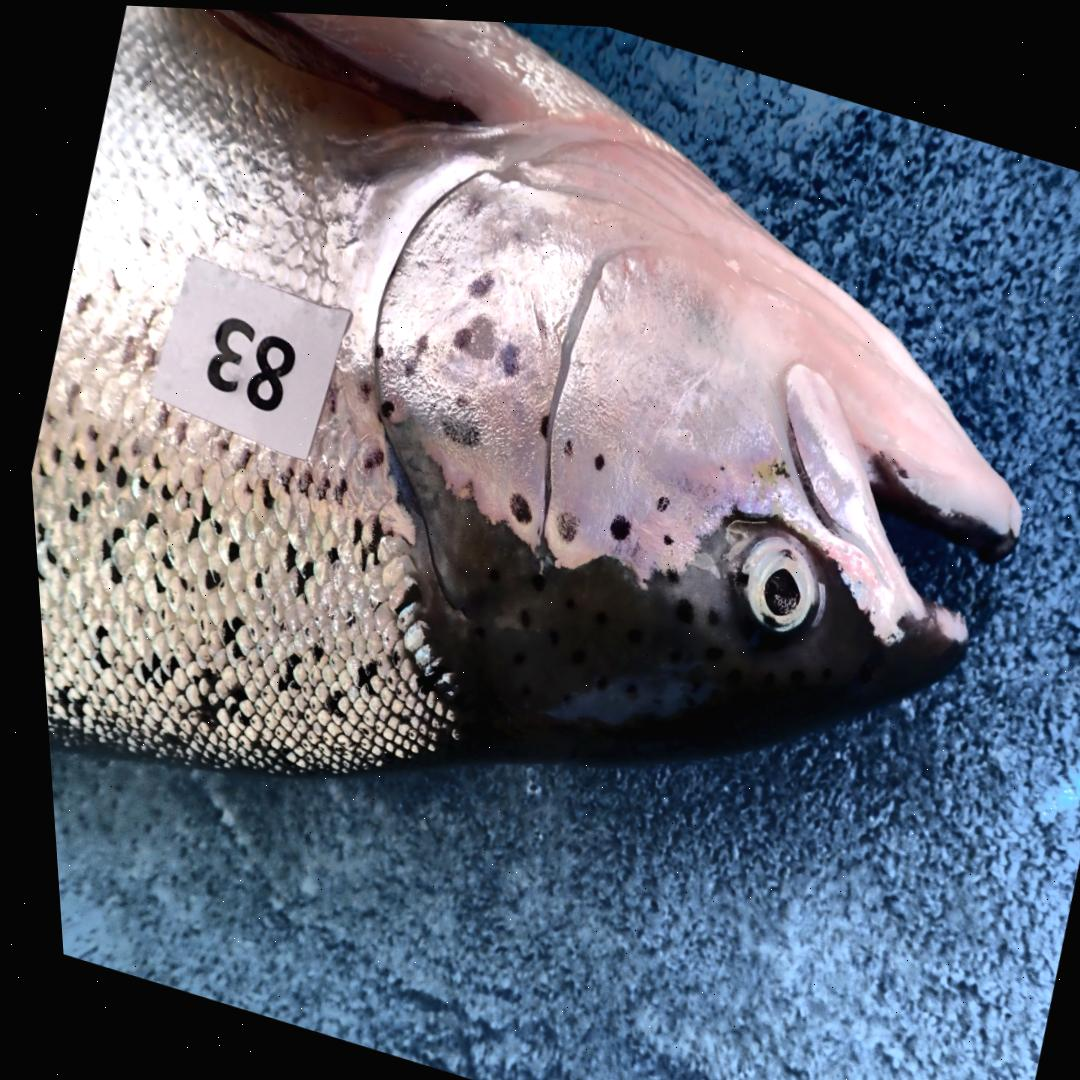spot: (435, 413, 474, 443), (493, 337, 515, 372), (548, 506, 571, 538), (502, 488, 525, 519), (464, 267, 490, 293), (601, 508, 624, 535), (447, 322, 465, 343), (533, 408, 544, 434), (410, 330, 422, 350), (374, 396, 388, 413), (649, 489, 662, 506), (557, 434, 567, 452), (589, 447, 598, 464), (368, 340, 378, 354), (449, 392, 461, 403), (398, 359, 408, 372), (655, 528, 666, 538)
